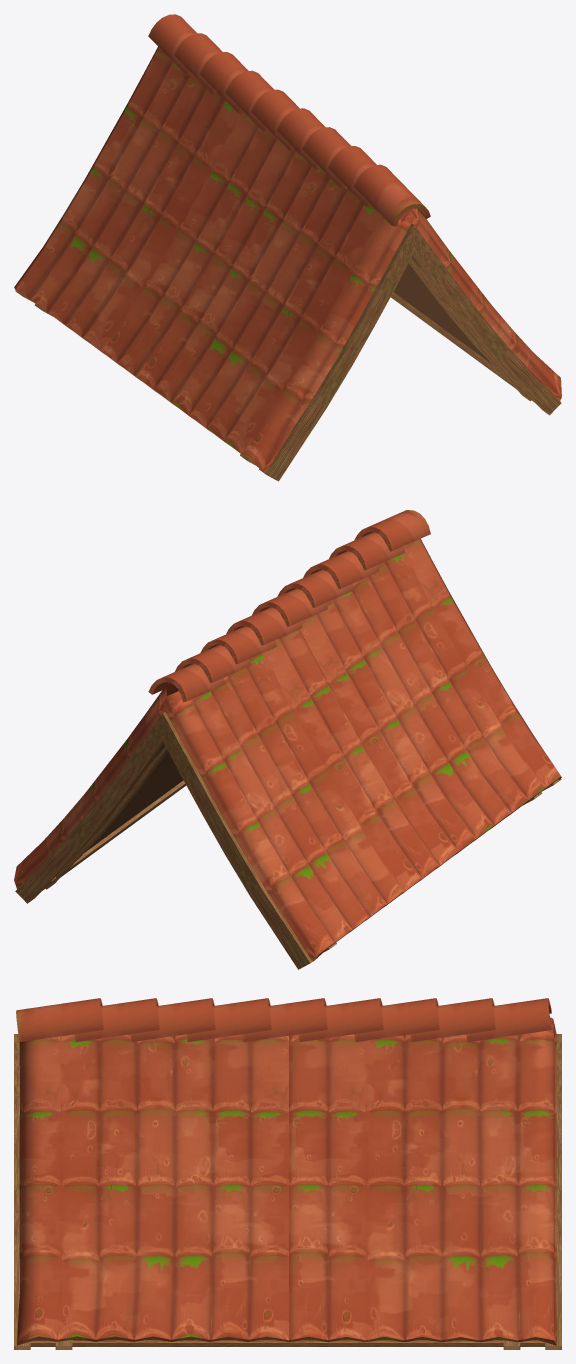
File: roof-qm-roofroundtiles4x6.glb
The picture shows the model from 3 angles, top to bottom: view 1: azimuth 30°, elevation 25°; view 2: azimuth 150°, elevation 25°; view 3: azimuth 270°, elevation 25°; orthographic projection. The views are drawn at different scales.
Parts seen in each view (by area): view 1: Cube_074; view 2: Cube_074; view 3: Cube_074.
Part boxes in pixels (<box>): Cube_074: <box>14,14,561,481</box>; Cube_074: <box>14,510,561,969</box>; Cube_074: <box>14,998,561,1349</box>.
Size of the model in its own units: 5.51 by 4.23 by 7.57.
Materials: 2 (2 with a texture image).
